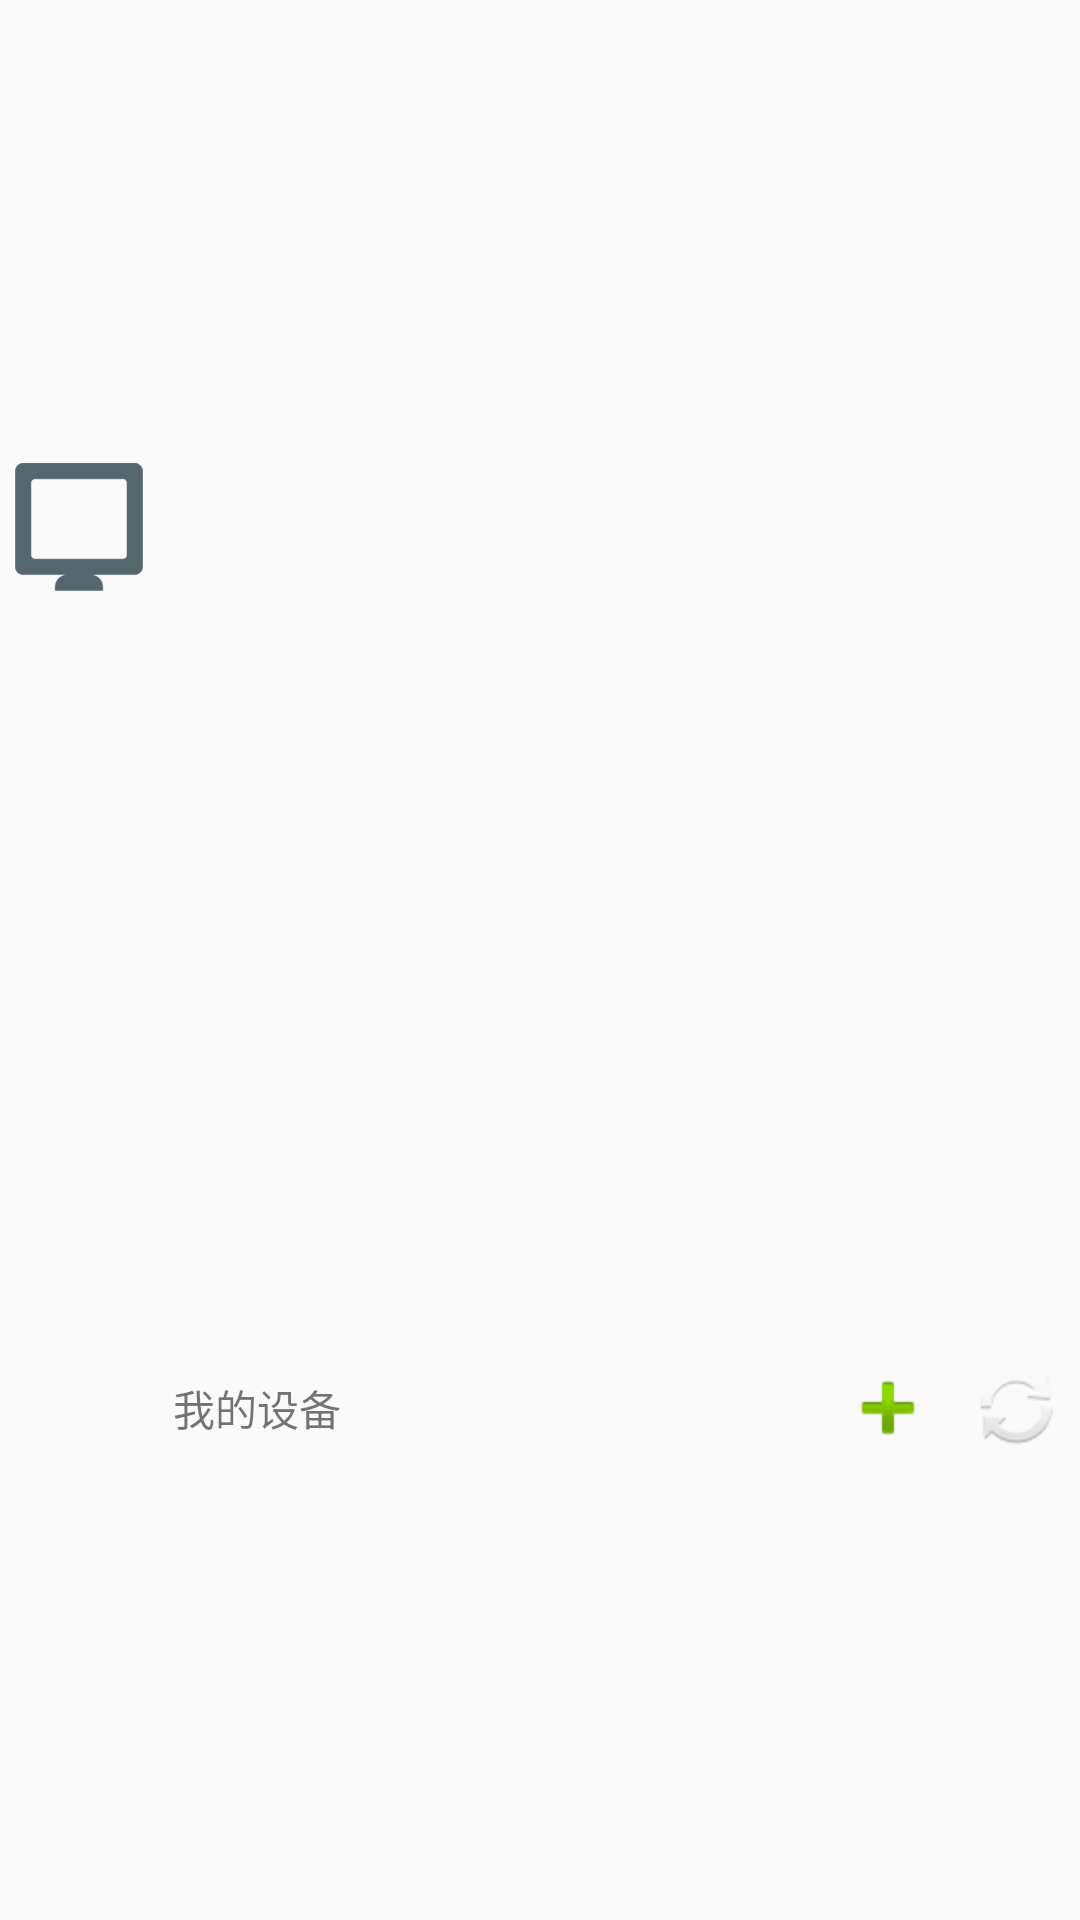

Screen size 1080×1920. Icon name, then its center in pixels as (x,y):
add: (888,1408)
monitor title: (79,527)
popup sync: (1016,1412)
